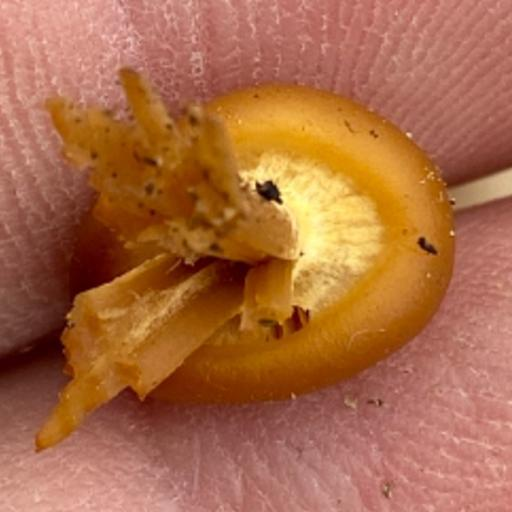mushroom: (52, 67, 458, 405)
